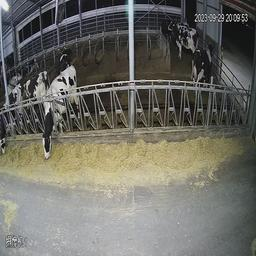cow: (40, 57, 85, 170), (0, 79, 23, 165), (190, 40, 219, 106), (171, 15, 199, 54), (22, 69, 47, 106)
